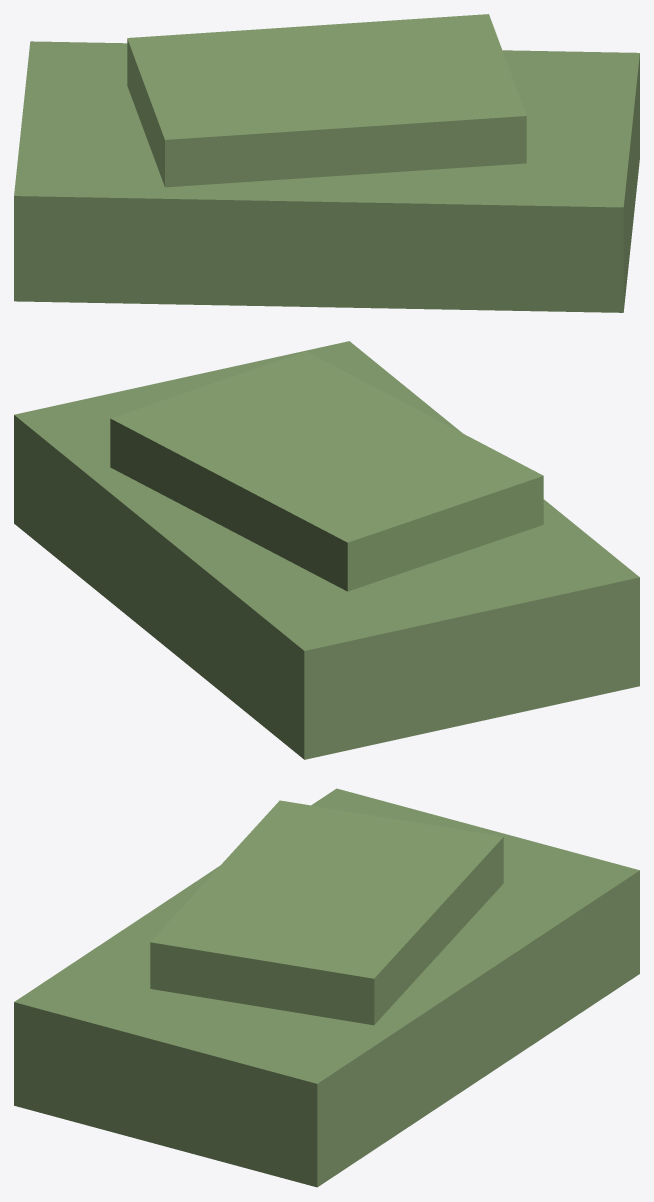
Rendered from structure.glb.
3 views of the same model, one above another, from view 1: azimuth 30°, elevation 25°; view 2: azimuth 150°, elevation 25°; view 3: azimuth 270°, elevation 25° (orthographic). The views are drawn at different scales.
Visible parts, largest first — view 1: Box1, Box2; view 2: Box1, Box2; view 3: Box1, Box2.
Boxes of the visible parts, x1,y1,x2,y2 form: Box1: (14, 41, 639, 312); Box2: (127, 14, 526, 187); Box1: (14, 341, 639, 759); Box2: (110, 351, 543, 591); Box1: (14, 788, 639, 1187); Box2: (150, 800, 503, 1025).
Size of the model in its own units: 156 by 37.01 by 140.
